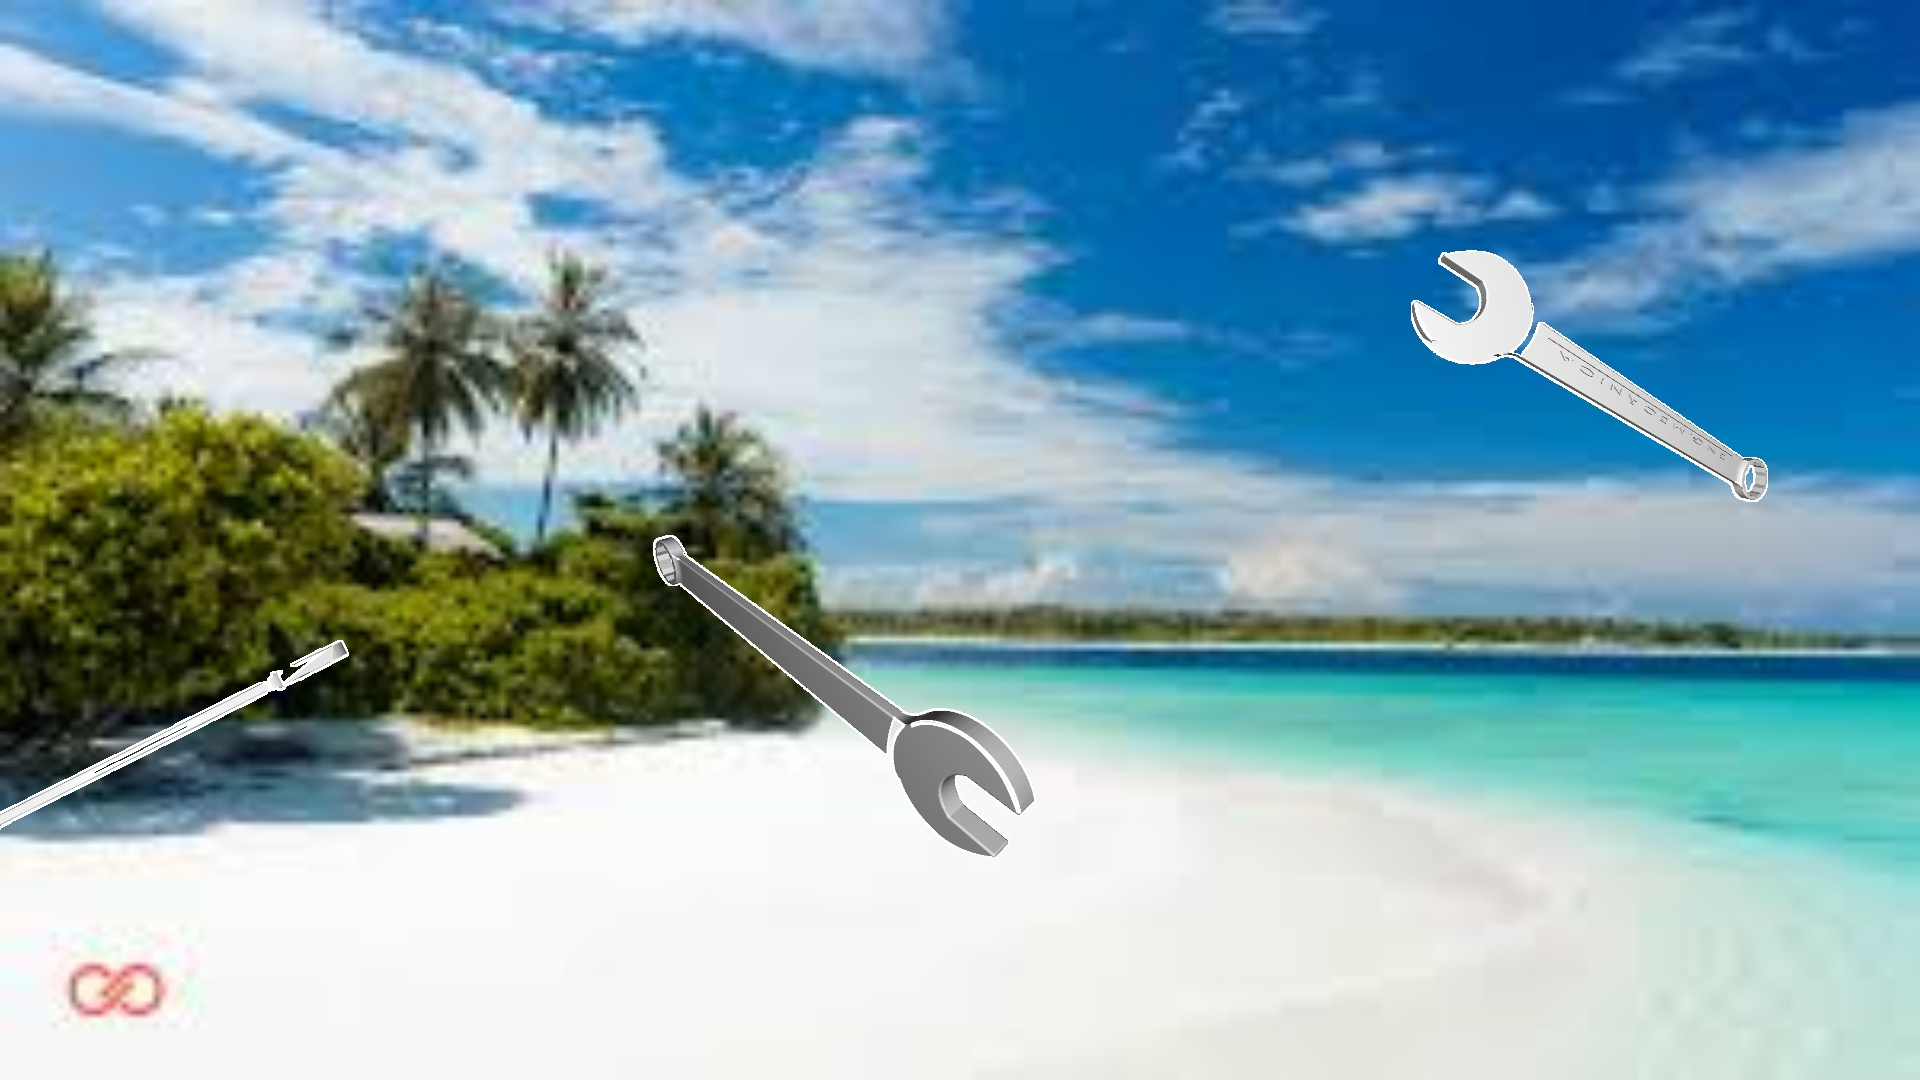Mixed Key: (653, 535, 1035, 858), (1411, 251, 1767, 501), (0, 640, 348, 829)
